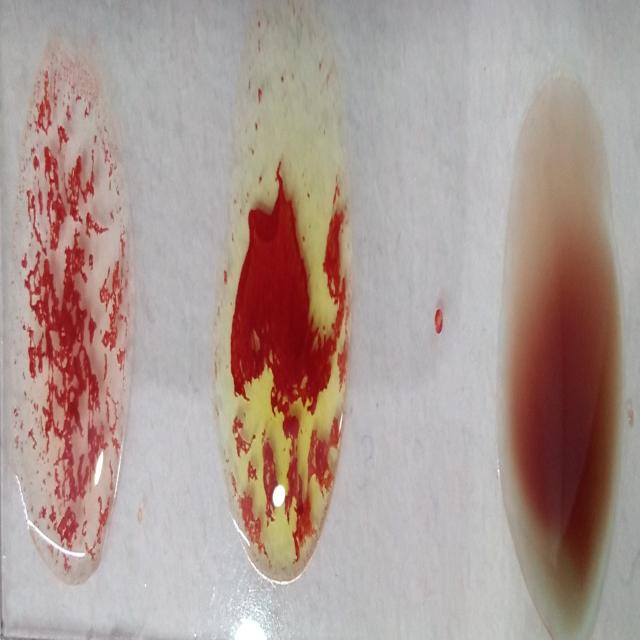B: (220, 55, 354, 586)
D: (14, 62, 128, 586)
